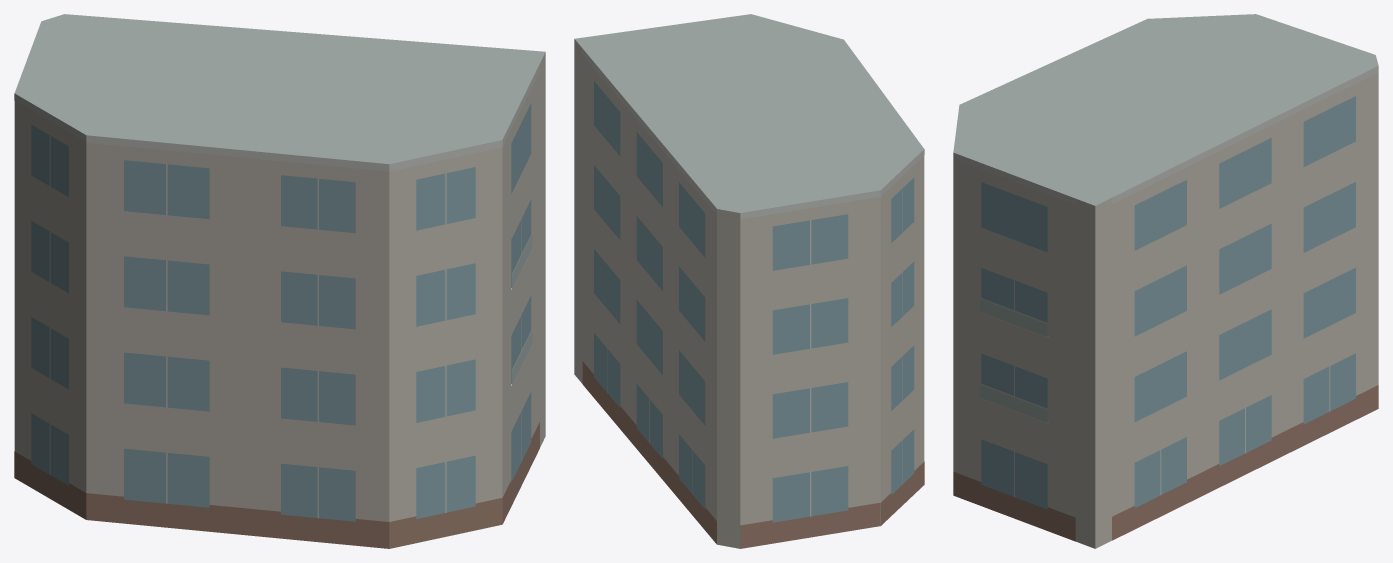
Rendered from survey-upis-32680313.glb.
3 renders of one model, left to right at view 1: azimuth 30°, elevation 25°; view 2: azimuth 150°, elevation 25°; view 3: azimuth 270°, elevation 25°, orthographic. The views are drawn at different scales.
Visible parts, largest first — view 1: survey-upis-32680313.tmp; view 2: survey-upis-32680313.tmp; view 3: survey-upis-32680313.tmp.
Part boxes in pixels (x1,y1,x2,y2): survey-upis-32680313.tmp: (14,14,545,548); survey-upis-32680313.tmp: (574,14,924,548); survey-upis-32680313.tmp: (953,14,1378,548).
Size of the model in its own units: 15.36 by 12.8 by 14.4.
